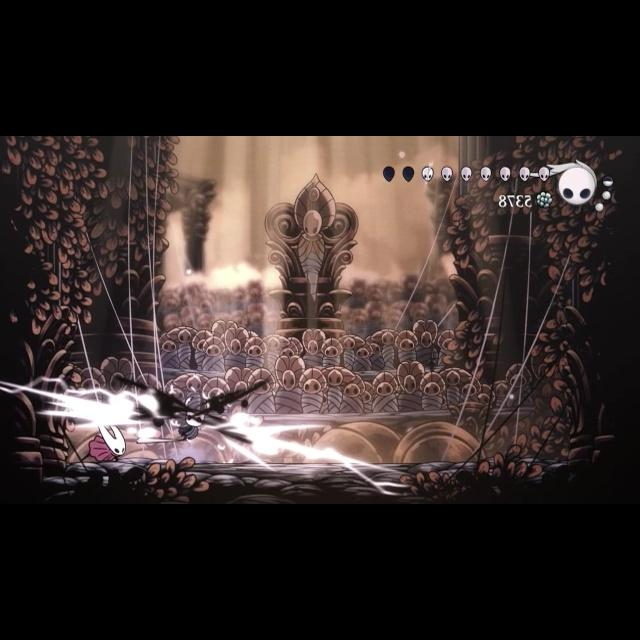Enemy: (68, 414, 132, 468)
NailAttack: (130, 434, 178, 450)
PlayerDamaged: (175, 390, 213, 442)
